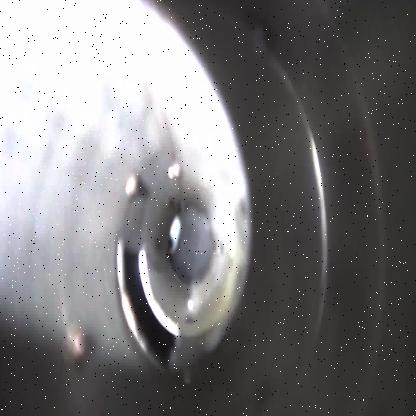Crack2: (113, 238, 179, 371)
